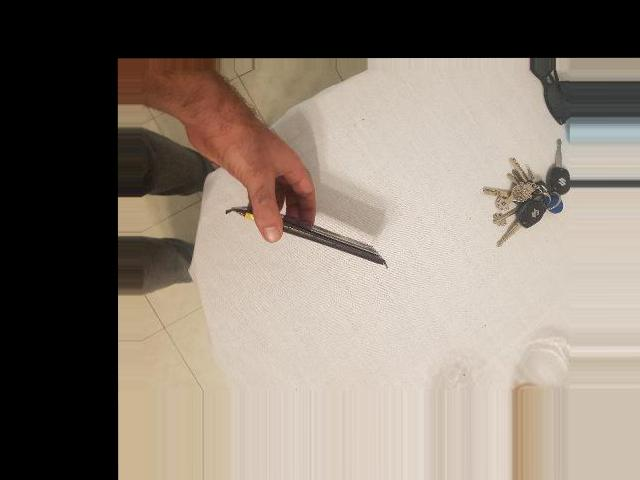chocolate: (239, 189, 395, 277)
